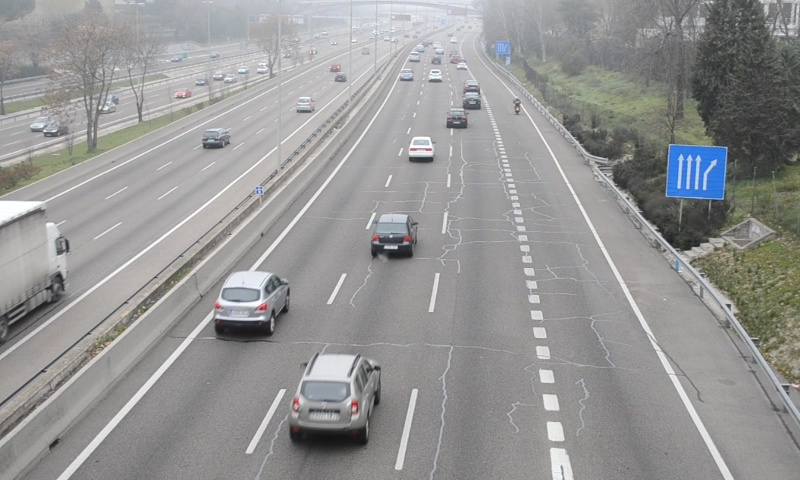car: (290, 353, 381, 434), (214, 272, 290, 322), (372, 214, 416, 254), (408, 135, 435, 161), (445, 108, 468, 128), (463, 92, 482, 108), (464, 80, 482, 94)
motorcycle: (513, 96, 522, 116)
